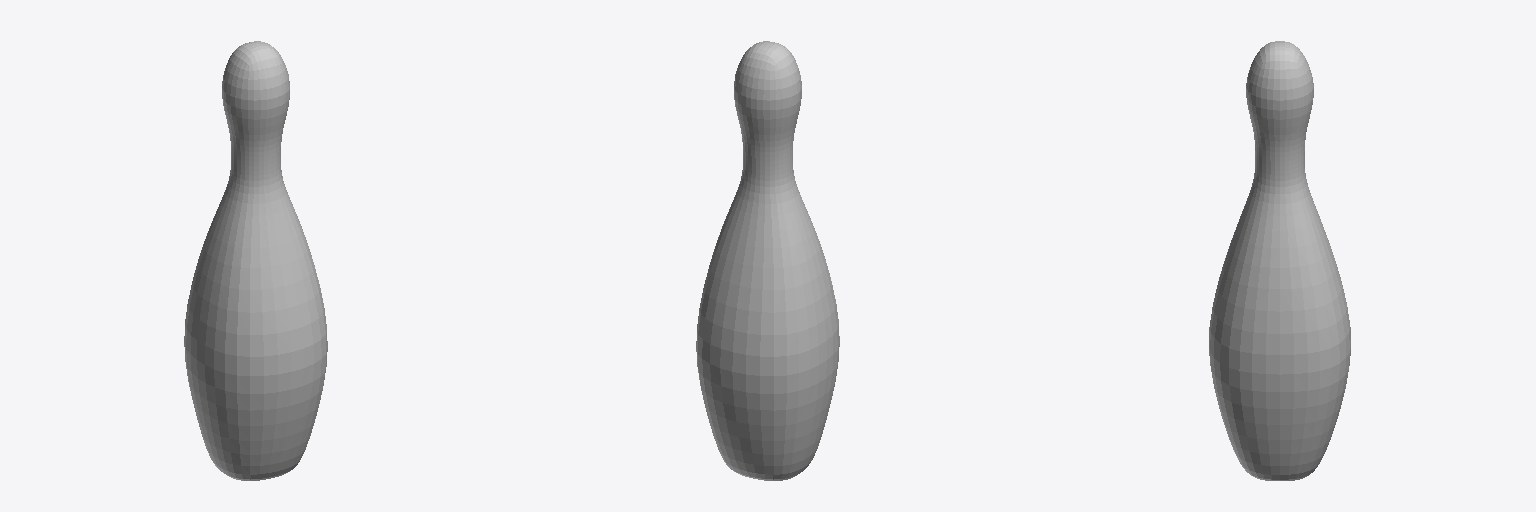
The model's file is pinResized.obj.
The picture shows the model from 3 angles: view 1: azimuth 30°, elevation 25°; view 2: azimuth 150°, elevation 25°; view 3: azimuth 270°, elevation 25°; orthographic projection.
Visible parts, largest first — view 1: Pin_Baked_Circle.007; view 2: Pin_Baked_Circle.007; view 3: Pin_Baked_Circle.007.
Boxes of the visible parts, box(x1,y1,x2,y2) form: Pin_Baked_Circle.007: box(184, 41, 327, 480); Pin_Baked_Circle.007: box(696, 41, 839, 480); Pin_Baked_Circle.007: box(1209, 41, 1350, 480).
Size of the model in its own units: 0.3548 by 1.22 by 0.3712.